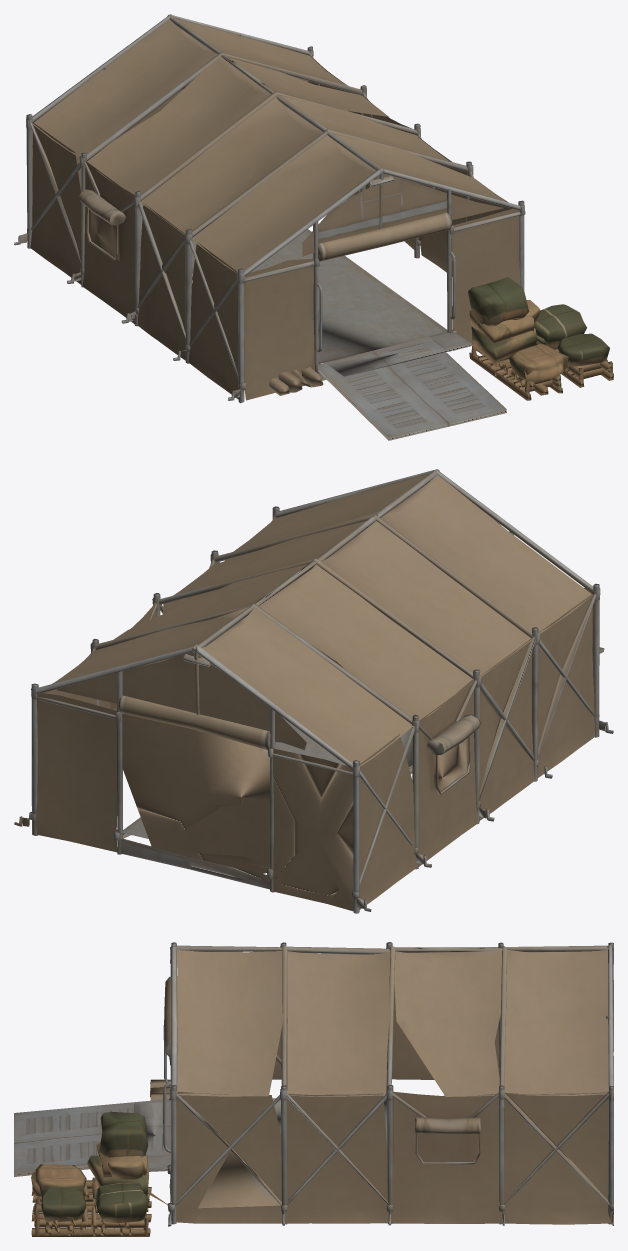
File: us-supply-center.glb
3 renders of one model, top to bottom at view 1: azimuth 30°, elevation 25°; view 2: azimuth 150°, elevation 25°; view 3: azimuth 270°, elevation 25°, orthographic. The views are drawn at different scales.
Parts seen in each view (by area): view 1: geometry_0; view 2: geometry_0; view 3: geometry_0.
Boxes of the visible parts, x1,y1,x2,y2 form: geometry_0: [14, 14, 613, 440]; geometry_0: [14, 469, 613, 913]; geometry_0: [14, 942, 613, 1236].
Bounding box in the file's own units: 0.6546 × 0.3866 × 1.
Materials: 1 (1 with a texture image).
